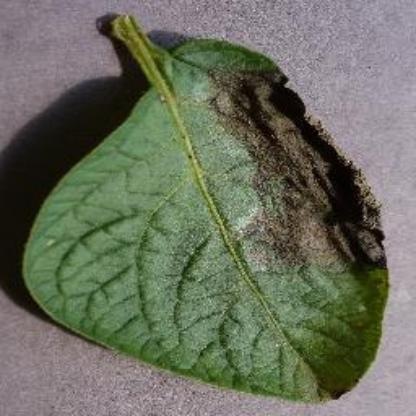Late-Blight: (15, 11, 395, 405)
